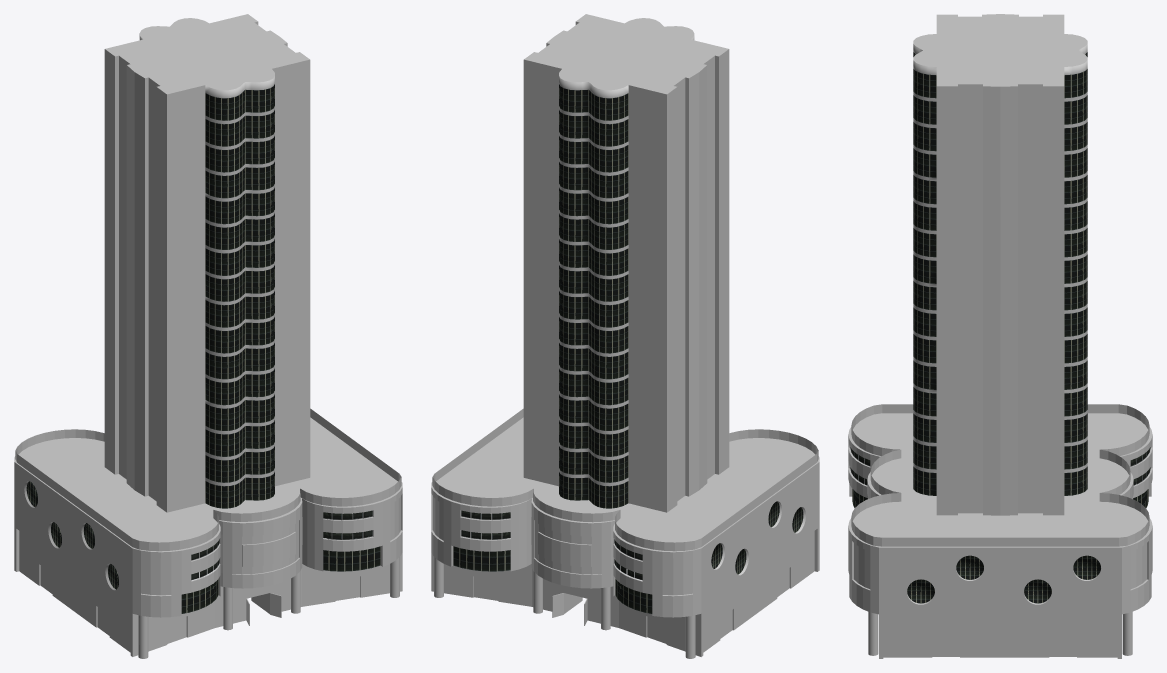
The picture shows the model from 3 angles, left to right: view 1: azimuth 30°, elevation 25°; view 2: azimuth 150°, elevation 25°; view 3: azimuth 270°, elevation 25°; orthographic projection. The views are drawn at different scales.
Visible parts, largest first — view 1: BC-053; view 2: BC-053; view 3: BC-053.
Part boxes in pixels (<box>): BC-053: <box>14,14,402,658</box>; BC-053: <box>431,14,819,658</box>; BC-053: <box>848,14,1152,658</box>.
Size of what is drawn, in the model's own units: 32.55 by 60.72 by 30.98.
